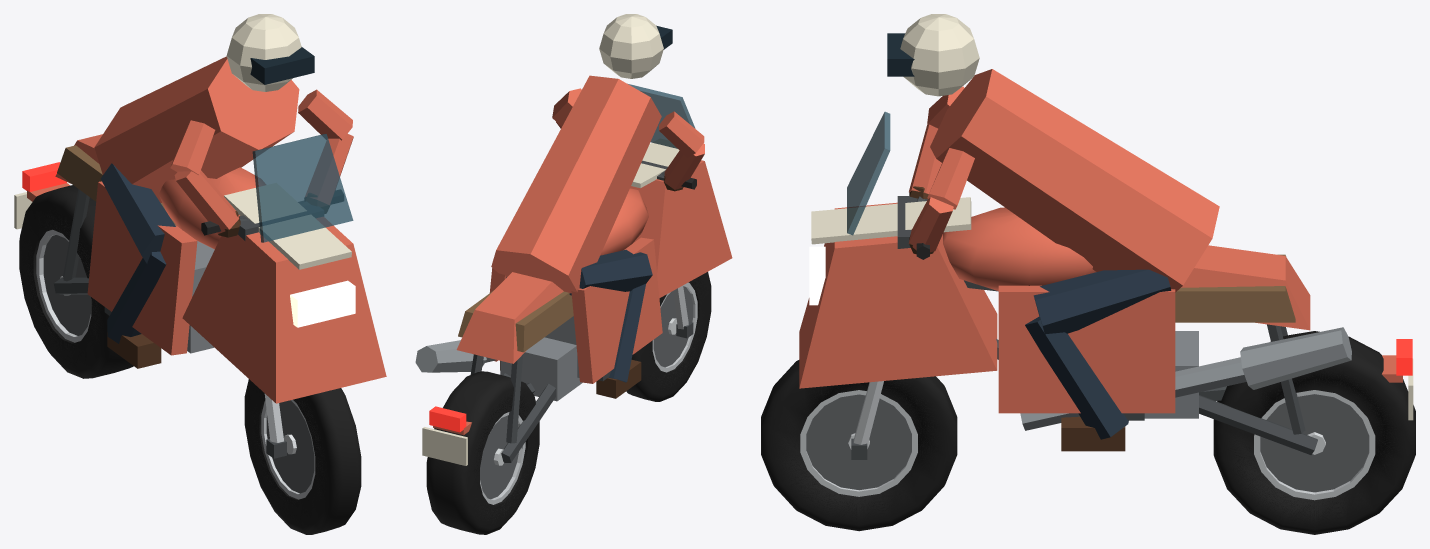
The model's file is thorn-sport.glb.
3 renders of one model, left to right at view 1: azimuth 30°, elevation 25°; view 2: azimuth 150°, elevation 25°; view 3: azimuth 270°, elevation 25°, orthographic. The views are drawn at different scales.
Parts seen in each view (by area): view 1: frame, rider, wheel_F, wheel_R, fork, headlight, taillight, plate_R; view 2: frame, rider, wheel_R, wheel_F, fork, plate_R, taillight; view 3: frame, rider, wheel_R, wheel_F, fork, headlight.
Boxes of the visible parts, left/top/right/bottom form: frame: left=27, top=134, right=386, bottom=403; rider: left=94, top=14, right=353, bottom=368; wheel_F: left=244, top=379, right=361, bottom=534; wheel_R: left=19, top=185, right=133, bottom=378; fork: left=201, top=134, right=353, bottom=458; headlight: left=290, top=280, right=355, bottom=327; taillight: left=22, top=162, right=66, bottom=191; plate_R: left=14, top=182, right=68, bottom=229; frame: left=415, top=139, right=732, bottom=462; rider: left=491, top=14, right=704, bottom=398; wheel_R: left=426, top=371, right=539, bottom=534; wheel_F: left=626, top=272, right=711, bottom=401; fork: left=627, top=83, right=696, bottom=338; plate_R: left=422, top=427, right=467, bottom=465; taillight: left=429, top=406, right=466, bottom=432; frame: left=799, top=197, right=1402, bottom=454; rider: left=887, top=14, right=1219, bottom=451; wheel_R: left=1213, top=331, right=1415, bottom=534; wheel_F: left=761, top=360, right=957, bottom=531; fork: left=847, top=111, right=929, bottom=459; headlight: left=809, top=246, right=825, bottom=305.
Bounding box in the file's own units: 0.6855 × 1.75 × 2.04.
